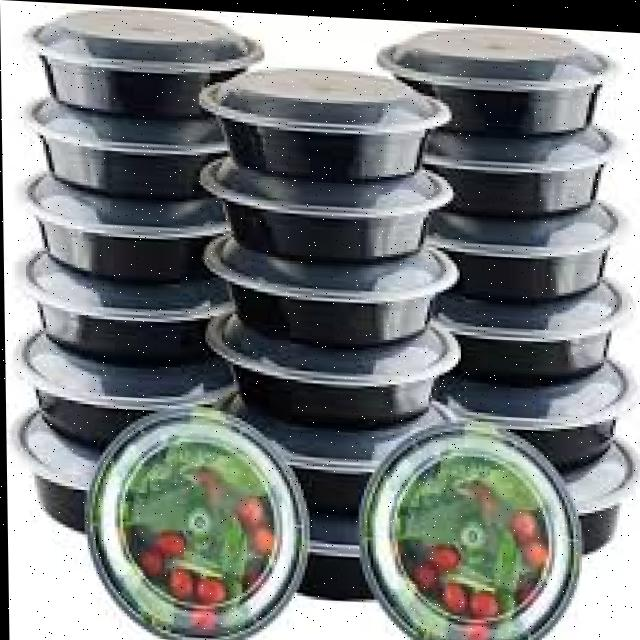disposable: (92, 398, 327, 640), (356, 402, 584, 640), (204, 46, 439, 187), (384, 17, 611, 144), (29, 2, 259, 123)
